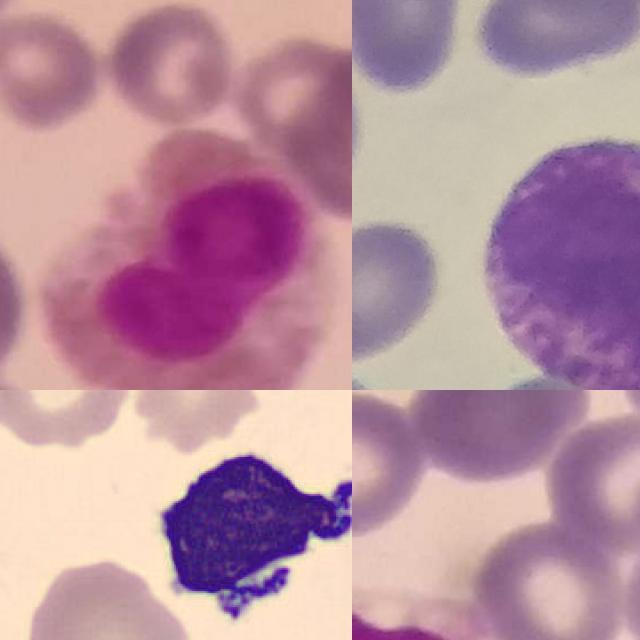Basophil: (488, 137, 640, 390)
Eosinophil: (45, 127, 327, 390)
Lymphocyte: (142, 436, 352, 640)
Platelets: (330, 473, 352, 510)
RBC: (21, 552, 199, 640), (122, 390, 273, 451), (0, 390, 135, 453)
